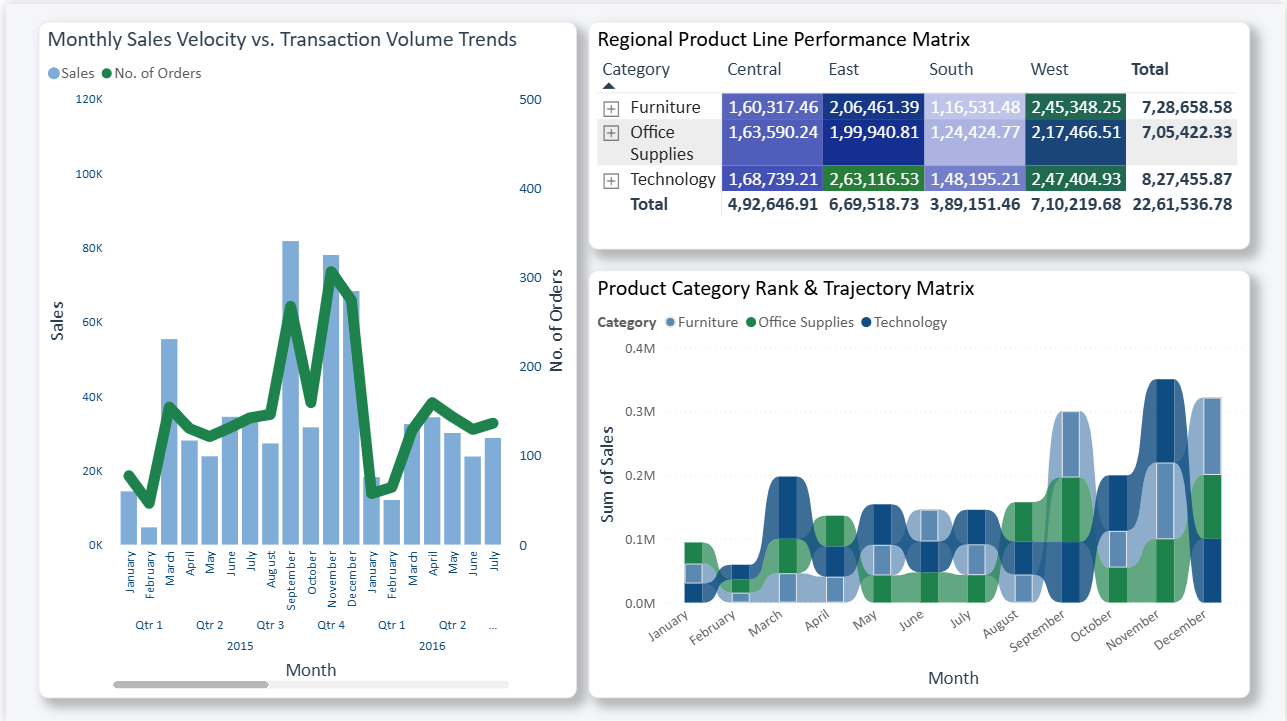

The page's visual inventory and layout, read from the dashboard file:
{"tool":"powerbi","page":{"name":"Performance Deep-Dive","canvas":[1280,720],"ordinal":1},"visuals":[{"type":"lineStackedColumnComboChart","title":"Monthly Sales Velocity vs. Transaction Volume Trends","fields":{"Category":["superstore_sales.Order Date.Variation.Date Hierarchy.Year","superstore_sales.Order Date.Variation.Date Hierarchy.Quarter","superstore_sales.Order Date.Variation.Date Hierarchy.Month"],"Y":["Sum(superstore_sales.Sales)"],"Y2":["CountNonNull(superstore_sales.Order ID)"]},"box":[32.4,17.6,538.2,676.5],"z":3000},{"type":"pivotTable","title":"Regional Product Line Performance Matrix","fields":{"Rows":["superstore_sales.Category","superstore_sales.Sub-Category"],"Values":["Sum(superstore_sales.Sales)"],"Columns":["superstore_sales.Region"]},"box":[582.4,17.6,661.8,227.9],"z":4000},{"type":"ribbonChart","title":"Product Category Rank & Trajectory Matrix","fields":{"Category":["superstore_sales.Order Date.Variation.Date Hierarchy.Year","superstore_sales.Order Date.Variation.Date Hierarchy.Quarter","superstore_sales.Order Date.Variation.Date Hierarchy.Month"],"Y":["Sum(superstore_sales.Sales)"],"Series":["superstore_sales.Category"]},"box":[582.4,266.2,661.8,427.9],"z":5000}]}

Visuals, with their boxes in screenshot pixels (x1, y1, x2, y2), scaled from the page's 1280x720 canvas onto the 1287x721 screenshot:
"Monthly Sales Velocity vs. Transaction Volume Trends" lineStackedColumnComboChart: box=[33, 18, 574, 695]
"Regional Product Line Performance Matrix" pivotTable: box=[586, 18, 1251, 246]
"Product Category Rank & Trajectory Matrix" ribbonChart: box=[586, 267, 1251, 695]
